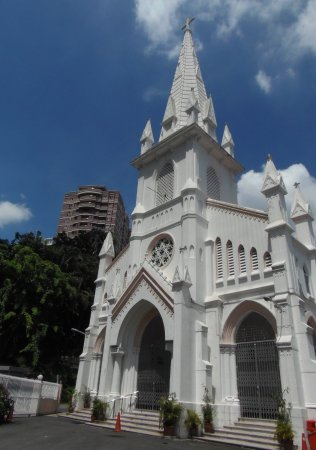Church: (90, 17, 309, 429)
